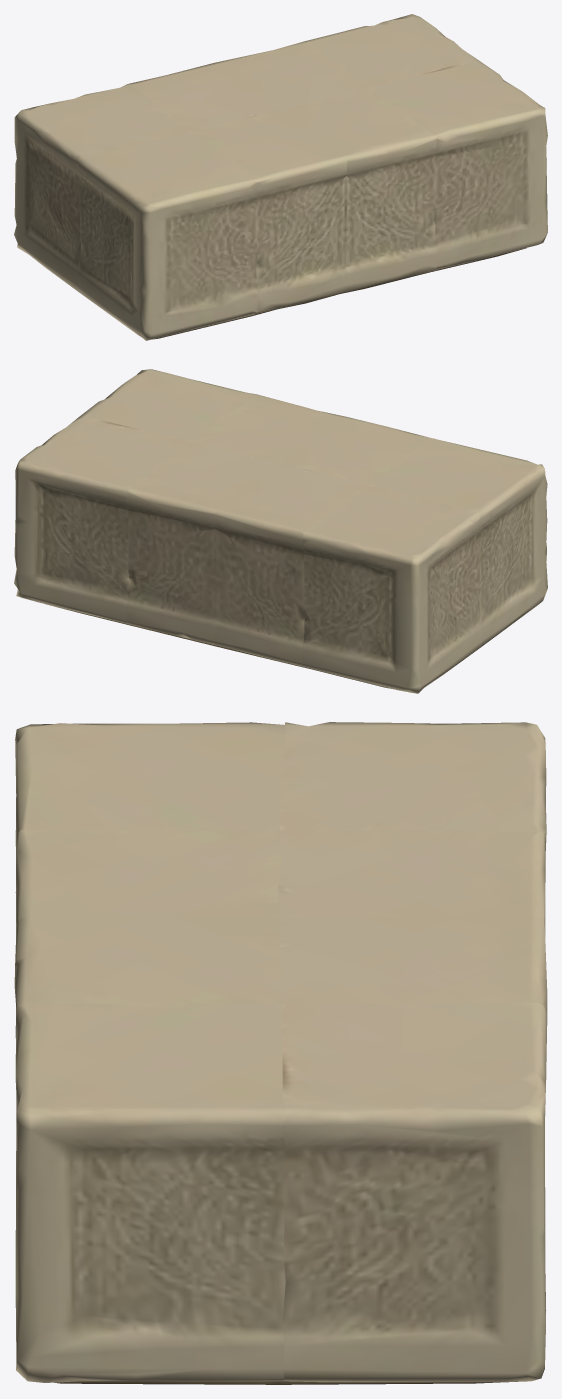
The model's file is ZhuZi_5_468d01.glb.
3 renders of one model, top to bottom at view 1: azimuth 30°, elevation 25°; view 2: azimuth 150°, elevation 25°; view 3: azimuth 270°, elevation 25°, orthographic. The views are drawn at different scales.
Parts seen in each view (by area): view 1: ZhuZi_5; view 2: ZhuZi_5; view 3: ZhuZi_5.
Boxes of the visible parts, x1,y1,x2,y2 form: ZhuZi_5: (14, 14, 547, 340); ZhuZi_5: (14, 369, 547, 693); ZhuZi_5: (14, 722, 547, 1384).
Size of the model in its own units: 0.668 by 0.2233 by 0.3792.
1 material, 1 textured.
